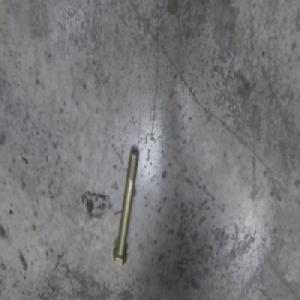Bolt: (110, 148, 137, 269)
